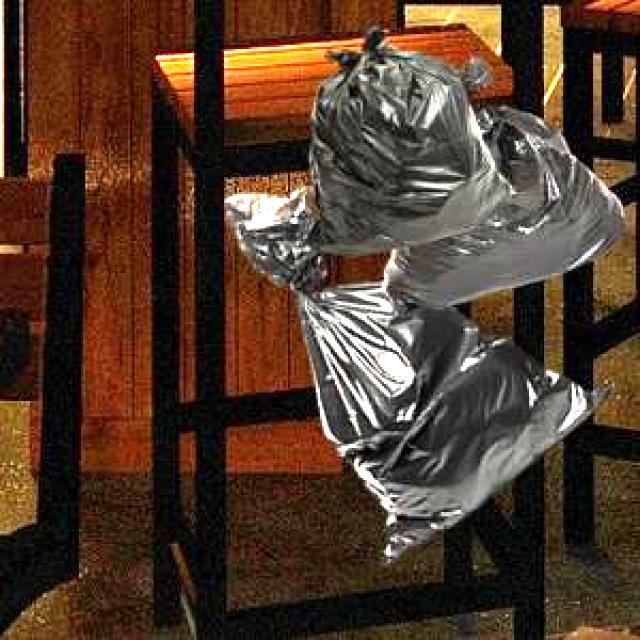Bolsa-de-nilon: (241, 54, 586, 539), (311, 40, 625, 533)
